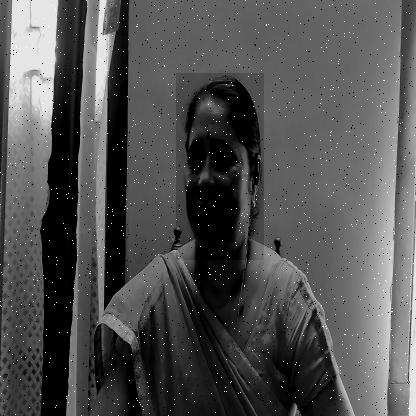Normal: (176, 73, 264, 260)
